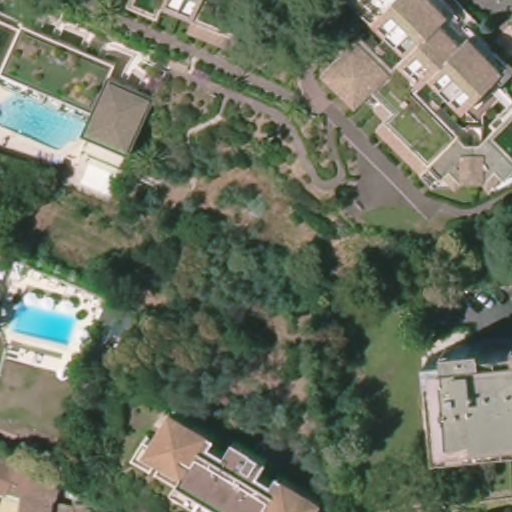pool: (1, 90, 87, 149), (13, 300, 80, 347)
